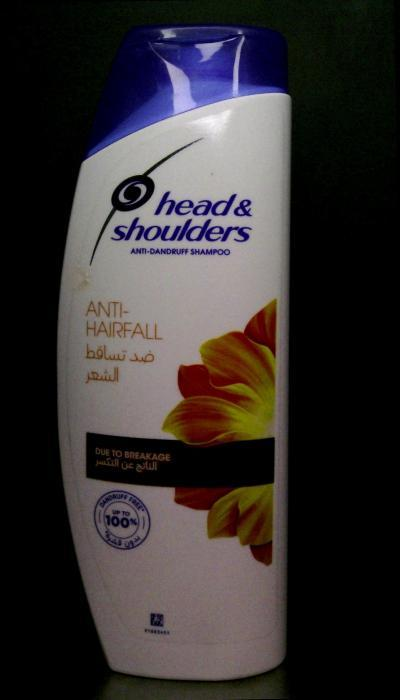tear_unacc: (68, 248, 106, 294)
